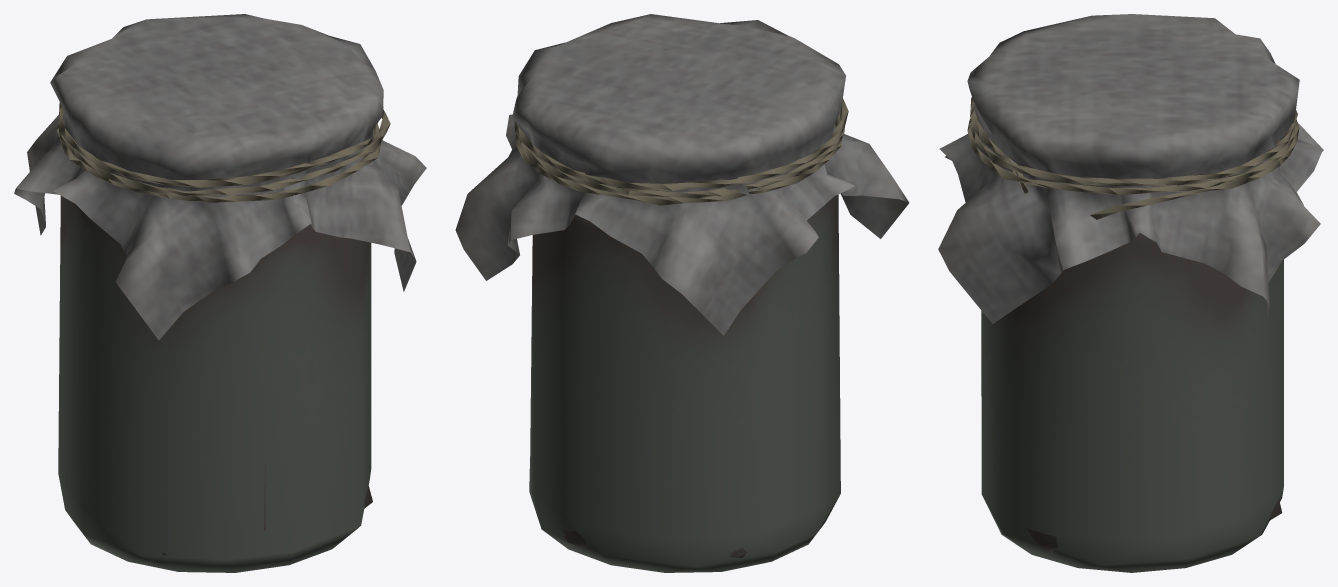
Rendered from SM_Jar_01.fbx.
3 renders of one model, left to right at view 1: azimuth 30°, elevation 25°; view 2: azimuth 150°, elevation 25°; view 3: azimuth 270°, elevation 25°, orthographic.
Visible parts, largest first — view 1: SM_Jar_01_LOD0; view 2: SM_Jar_01_LOD0; view 3: SM_Jar_01_LOD0.
Part boxes in pixels (x1=…): SM_Jar_01_LOD0: x1=14, y1=14, x2=426, y2=572; SM_Jar_01_LOD0: x1=455, y1=14, x2=909, y2=572; SM_Jar_01_LOD0: x1=938, y1=14, x2=1323, y2=572.
Bounding box in the file's own units: 12.88 × 12.5 × 15.86.
1 material, 1 textured.
